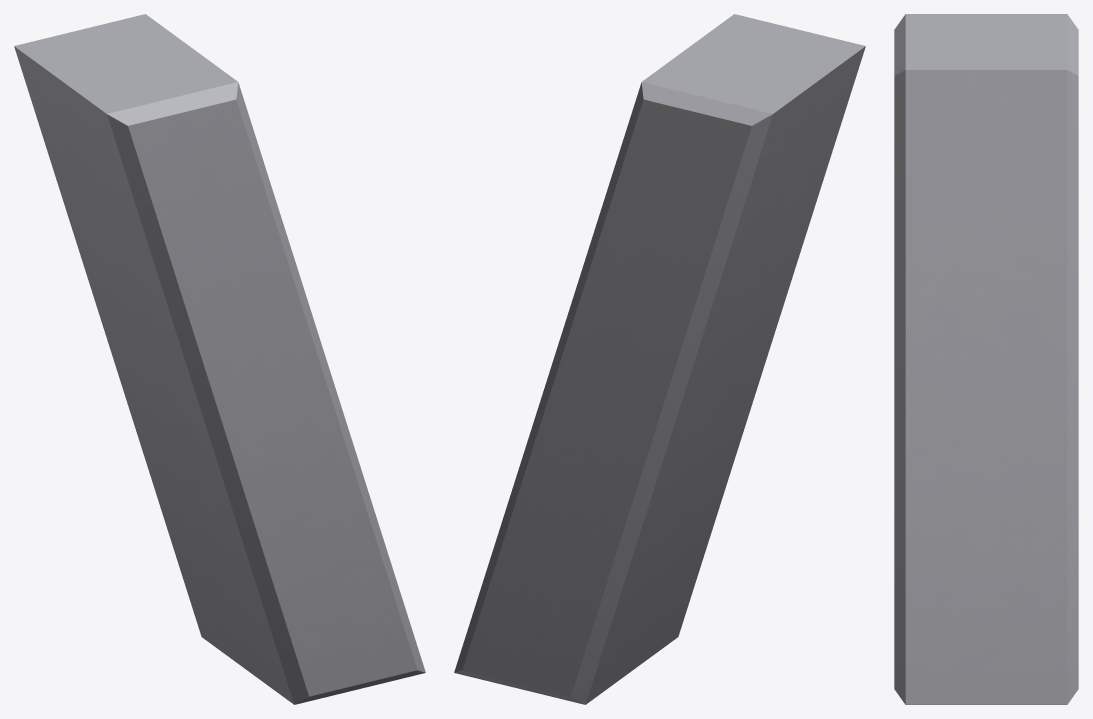
File: Backslash.FBX
3 renders of one model, left to right at view 1: azimuth 30°, elevation 25°; view 2: azimuth 150°, elevation 25°; view 3: azimuth 270°, elevation 25°, orthographic. The views are drawn at different scales.
Parts seen in each view (by area): view 1: Backslash; view 2: Backslash; view 3: Backslash.
Part boxes in pixels (bbox=[...]): Backslash: bbox=[14, 14, 425, 704]; Backslash: bbox=[454, 14, 865, 704]; Backslash: bbox=[894, 14, 1078, 704].
Size of the model in its own units: 57.57 by 110 by 33.
